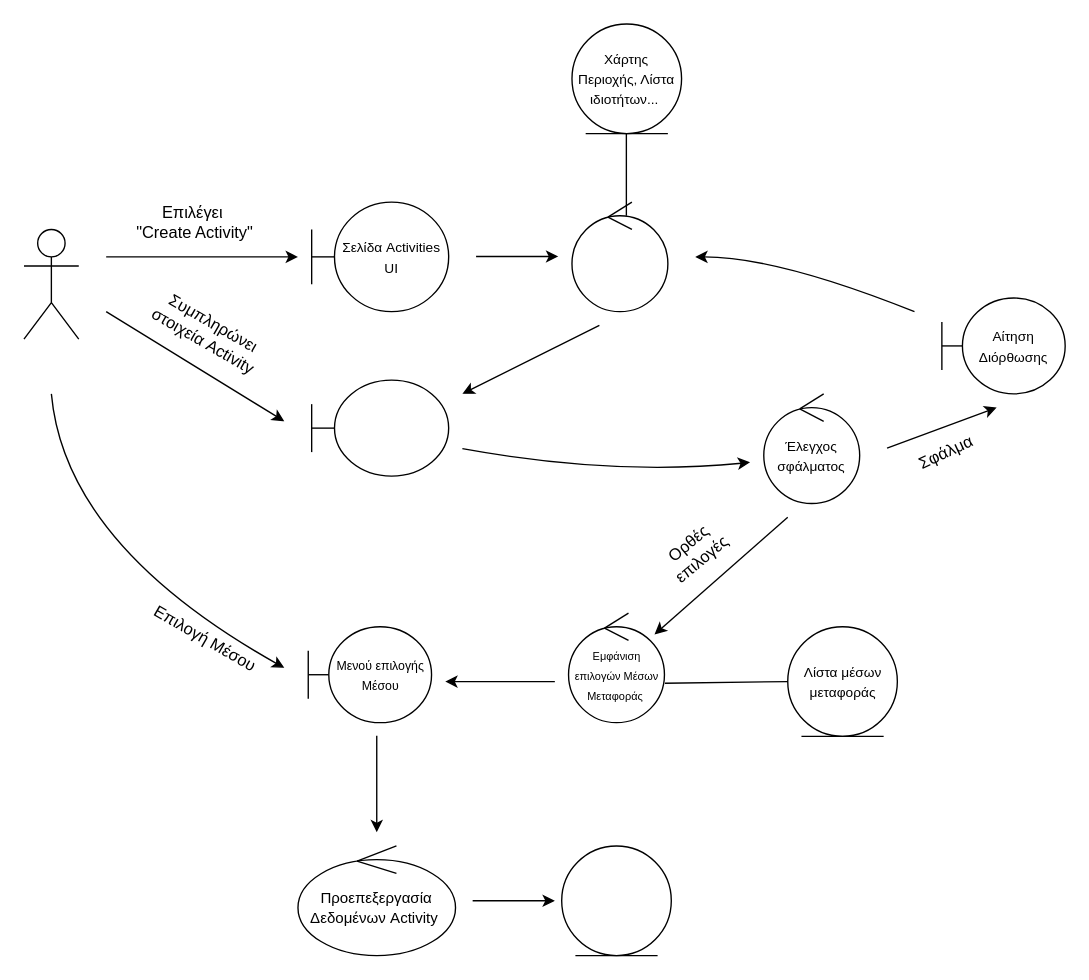
The diagram is 1089 pixels wide and 980 high, and some of its shapes have lost their labels. The box of each missing label's shape, as (x1, y1, x2, y2) in pixels:
Activities Χρήστη: (560, 845, 671, 956)
User: (23, 228, 79, 339)
Εμφάνιση επιλογών προς συμπλήρωση: (571, 201, 668, 312)
Μενου Επιλογών: (310, 379, 449, 476)
